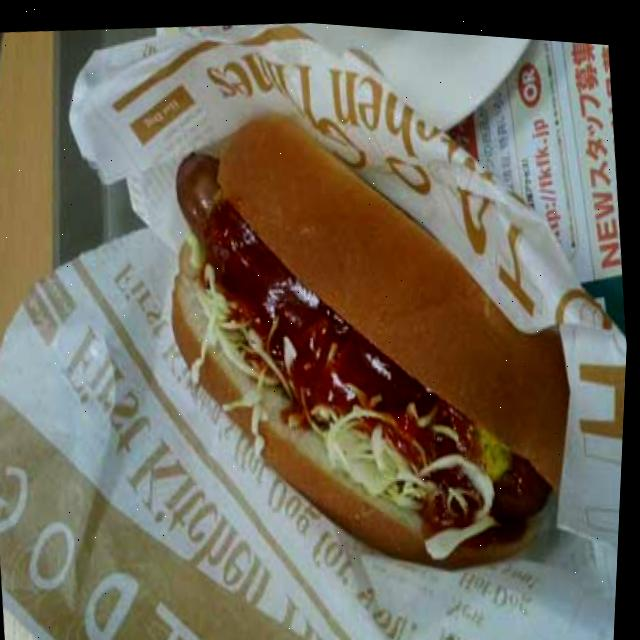汉堡快餐: (109, 7, 591, 564)
